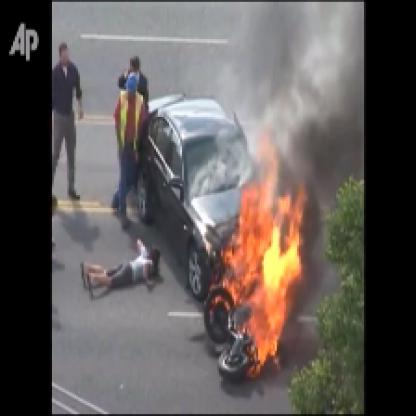Fire: (204, 130, 303, 383)
Smoke: (234, 2, 362, 191)
